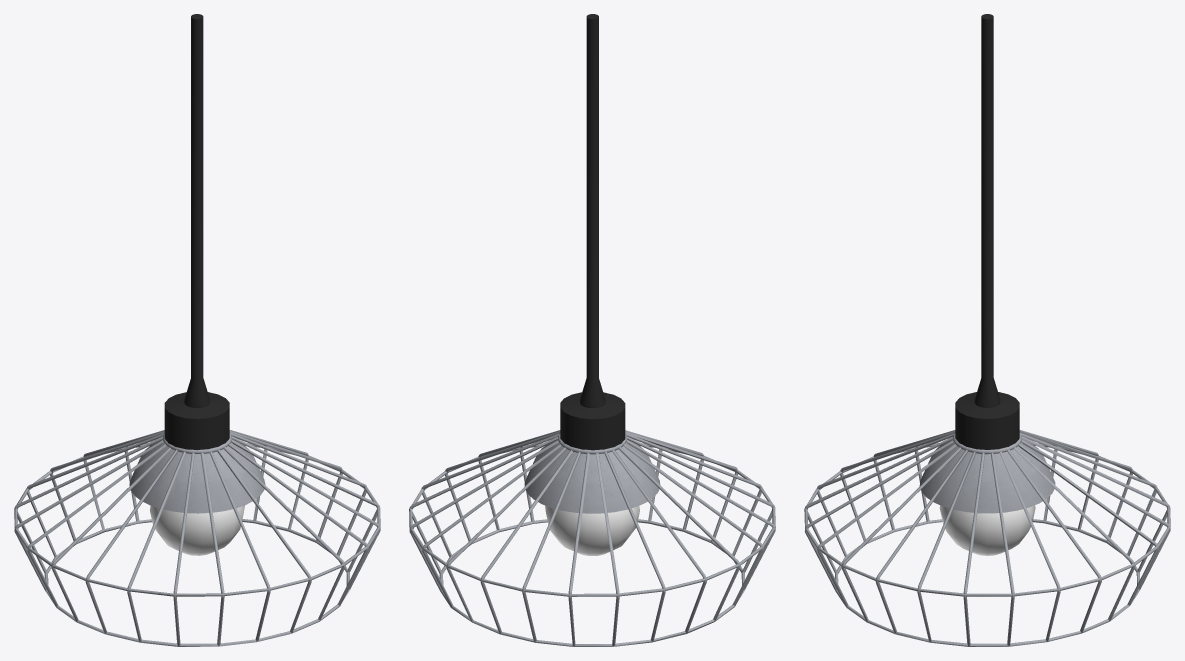
Rendered from Ceiling Lamp 1.FBX.
3 renders of one model, left to right at view 1: azimuth 30°, elevation 25°; view 2: azimuth 150°, elevation 25°; view 3: azimuth 270°, elevation 25°, orthographic.
Visible parts, largest first — view 1: Ceiling Lamp 1; view 2: Ceiling Lamp 1; view 3: Ceiling Lamp 1.
Boxes of the visible parts, x1,y1,x2,y2 form: Ceiling Lamp 1: [14, 14, 380, 646]; Ceiling Lamp 1: [409, 14, 775, 646]; Ceiling Lamp 1: [804, 14, 1170, 646].
Size of the model in its own units: 38.18 by 65.06 by 38.17.
Materials: 3 (2 with a texture image).
